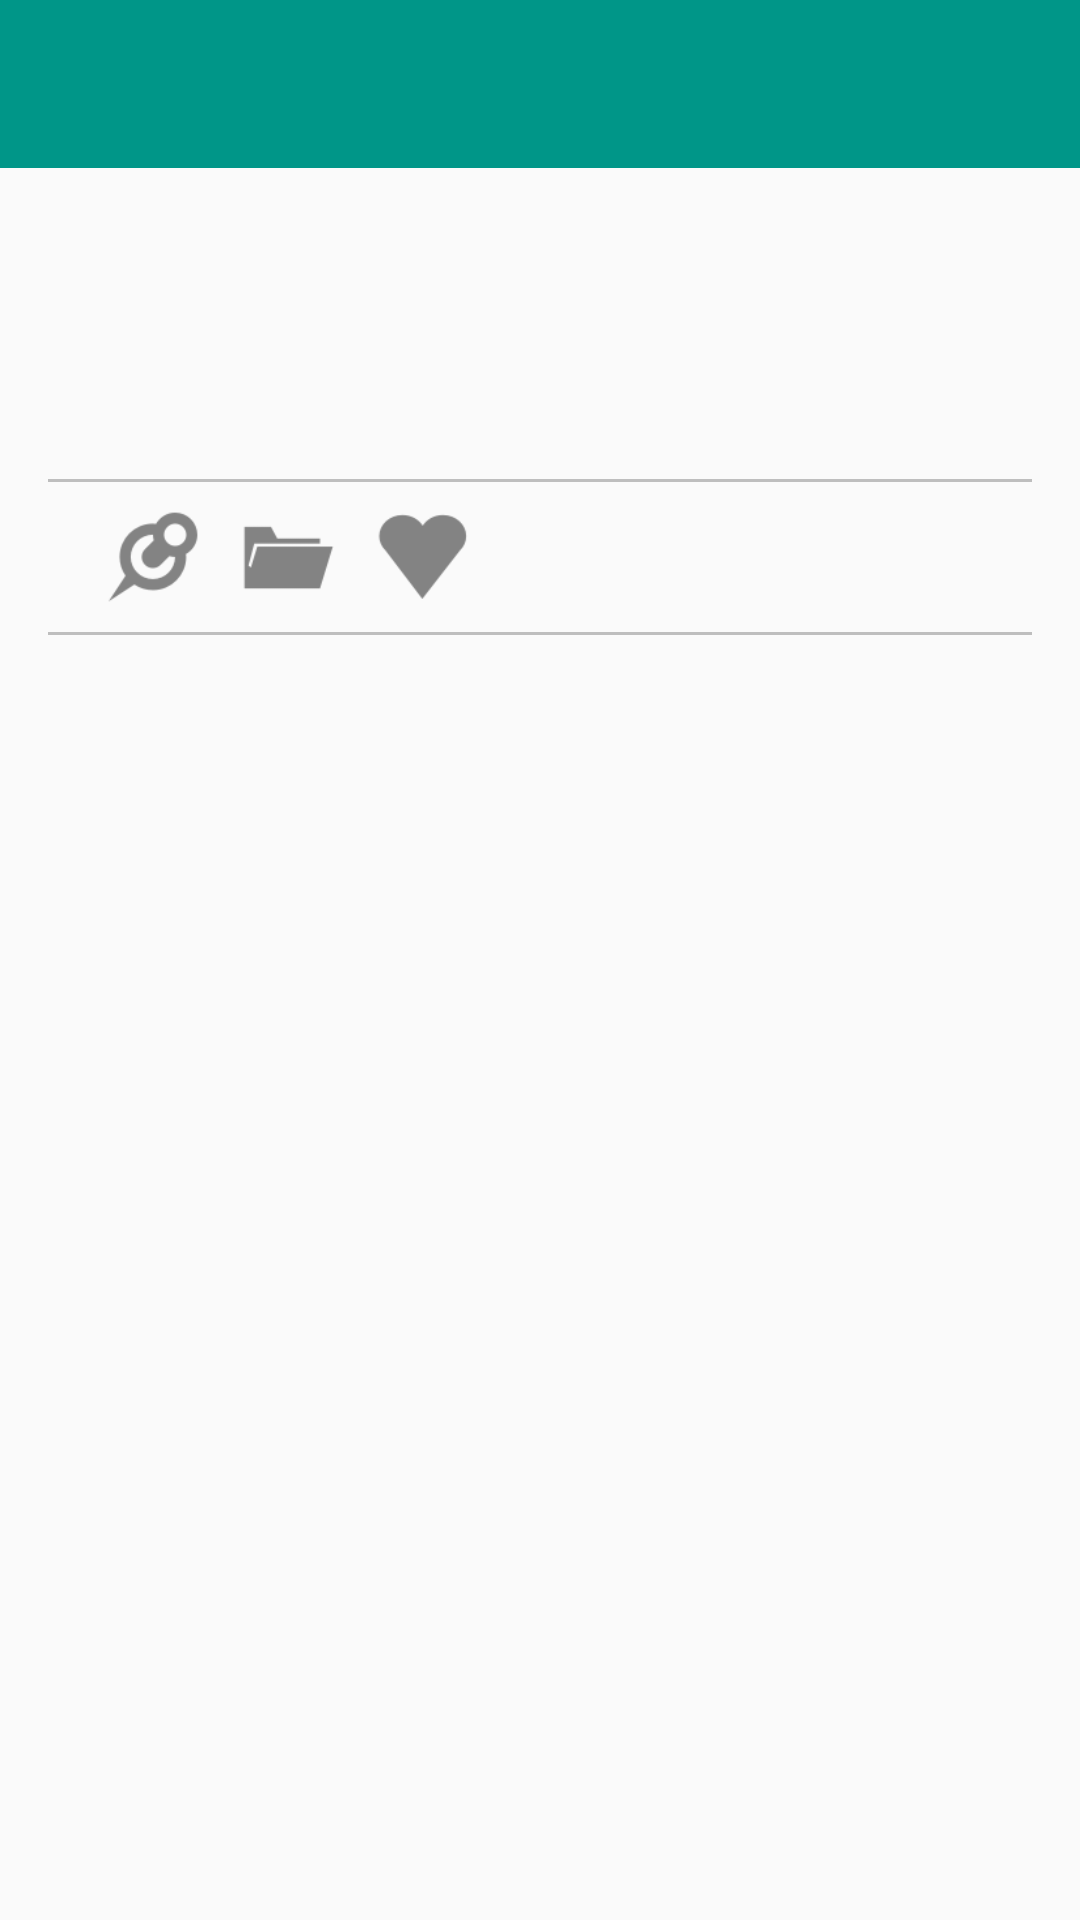

Where to tap for icons on this 1080px×1920px app screen, as [x,y]:
boards: [288,557]
like: [423,557]
pins: [153,556]
